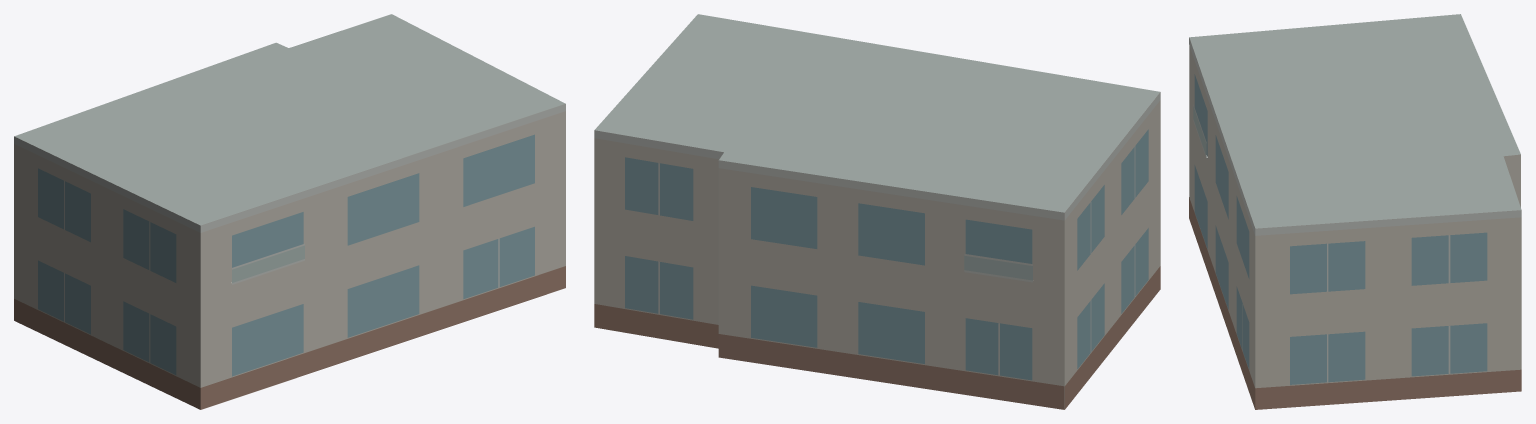
Rendered from survey-upis-32593042.glb.
3 views of the same model, side by side, from view 1: azimuth 30°, elevation 25°; view 2: azimuth 150°, elevation 25°; view 3: azimuth 270°, elevation 25° (orthographic). The views are drawn at different scales.
Visible parts, largest first — view 1: survey-upis-32593042.tmp; view 2: survey-upis-32593042.tmp; view 3: survey-upis-32593042.tmp.
Boxes of the visible parts, box(x1,y1,x2,y2) form: survey-upis-32593042.tmp: box(14, 14, 565, 409); survey-upis-32593042.tmp: box(594, 14, 1160, 409); survey-upis-32593042.tmp: box(1189, 14, 1521, 409).
Bounding box in the file's own units: 15.5 × 6.1 × 10.15.
